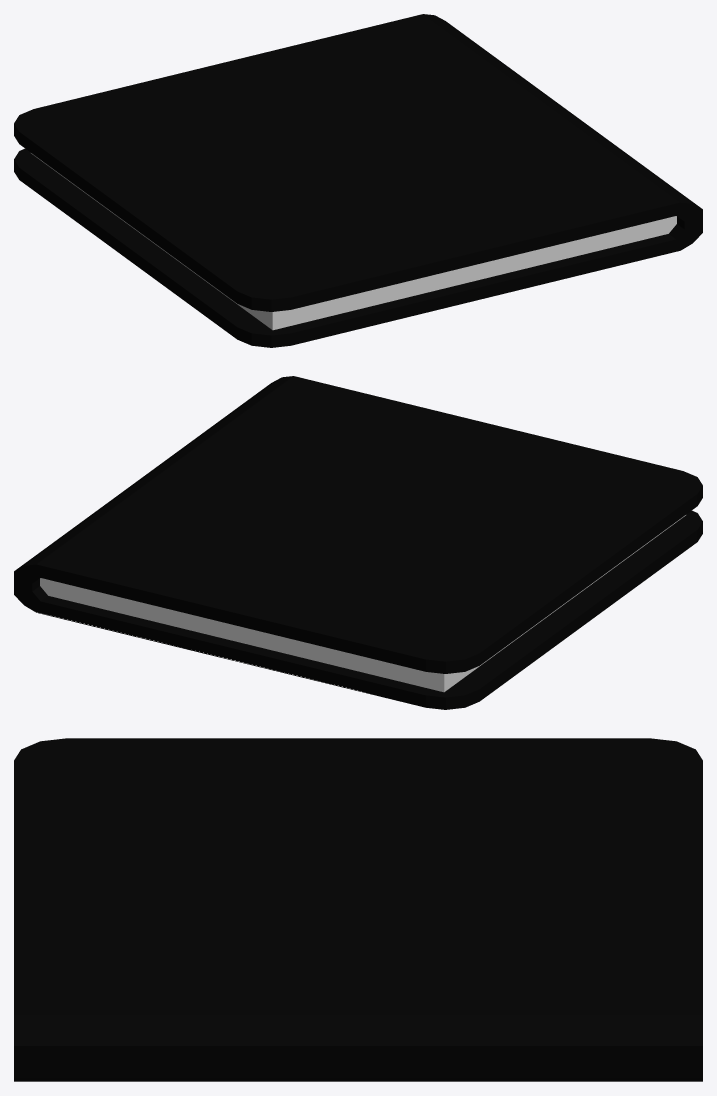
File: DeathNote.fbx
The picture shows the model from 3 angles, top to bottom: view 1: azimuth 30°, elevation 25°; view 2: azimuth 150°, elevation 25°; view 3: azimuth 270°, elevation 25°; orthographic projection. The views are drawn at different scales.
Parts seen in each view (by area): view 1: Cube, Cube.001; view 2: Cube, Cube.001; view 3: Cube.
Part boxes in pixels (left/top/right/bottom): Cube: left=14, top=14, right=702, bottom=347; Cube.001: left=31, top=153, right=676, bottom=330; Cube: left=14, top=376, right=702, bottom=709; Cube.001: left=40, top=515, right=685, bottom=692; Cube: left=14, top=738, right=702, bottom=1081.
Bounding box in the file's own units: 2988 × 309 × 2988.
